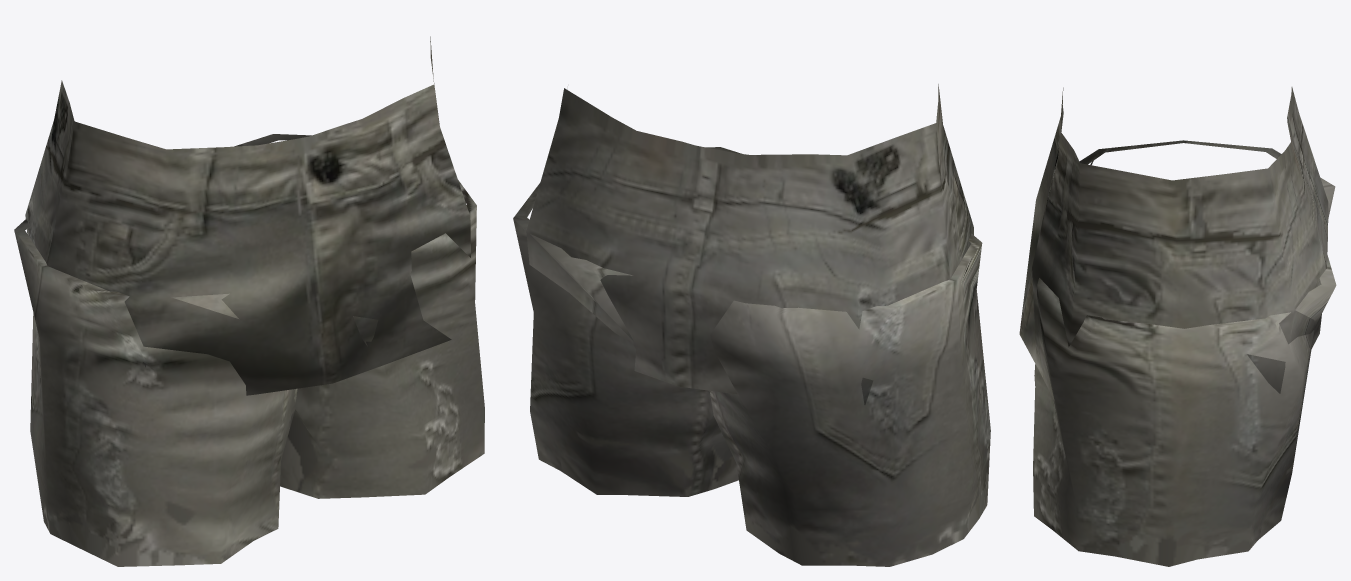
The model's file is 007-shell.glb.
The picture shows the model from 3 angles, left to right: view 1: azimuth 30°, elevation 25°; view 2: azimuth 150°, elevation 25°; view 3: azimuth 270°, elevation 25°; orthographic projection. The views are drawn at different scales.
Visible parts, largest first — view 1: geometry_0; view 2: geometry_0; view 3: geometry_0.
Boxes of the visible parts, box(x1,y1,x2,y2) form: geometry_0: box(14, 36, 484, 566); geometry_0: box(513, 84, 990, 566); geometry_0: box(1019, 87, 1336, 566).
Bounding box in the file's own units: 0.364 × 0.3454 × 0.2487.
1 material, 1 textured.
